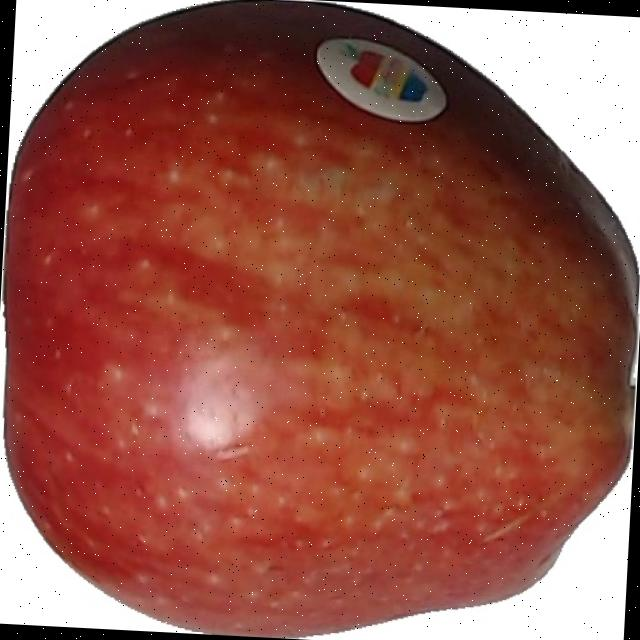apple: (4, 0, 640, 640)
